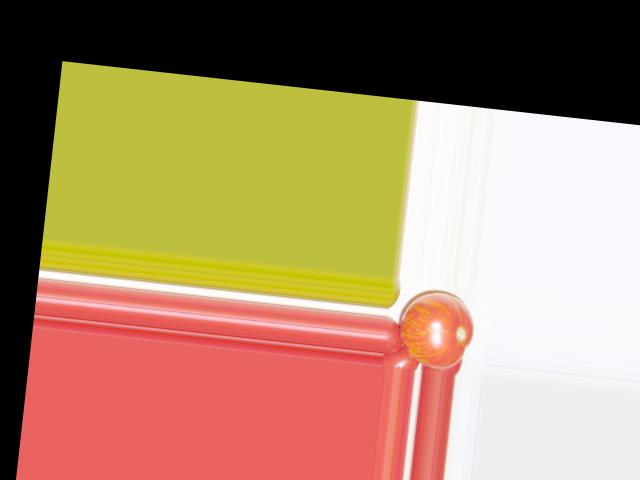tomato: (395, 288, 478, 372)
